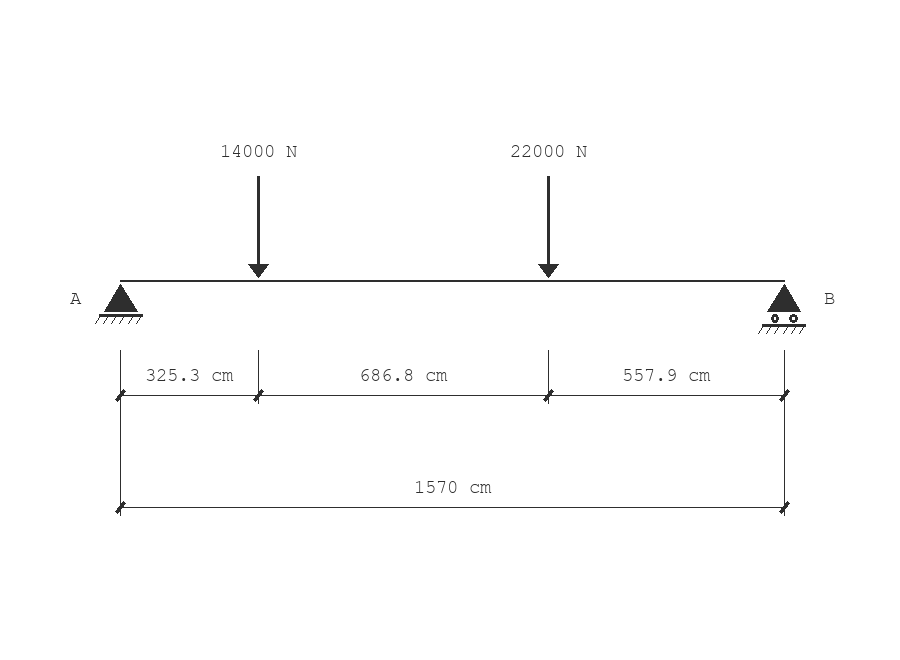pin_support: (95, 284, 143, 324)
point_load: (248, 176, 269, 278), (538, 176, 559, 278)
roller_support: (758, 284, 806, 334)
